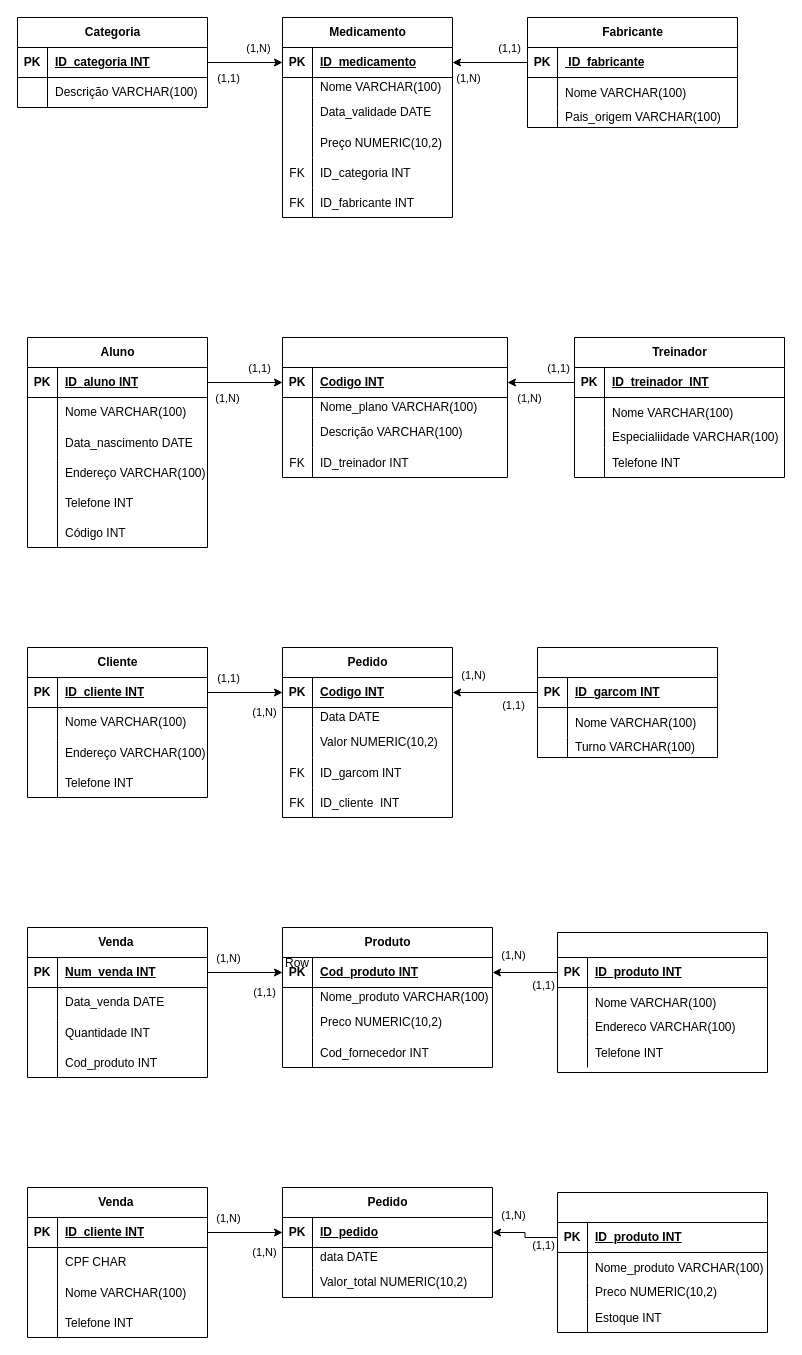
The diagram is 802 pixels wide and 1355 high, and some of its shapes have lost their labels. The shapes that lost their labels are listed below. From the top down, each one's box as (x1, y1, x2, y2) in pixels, then its label:
(282, 336, 508, 478): Plano de treino
(536, 646, 718, 758): Garçom
(556, 932, 768, 1072): Fornecedor
(556, 1192, 768, 1332): Produtos
